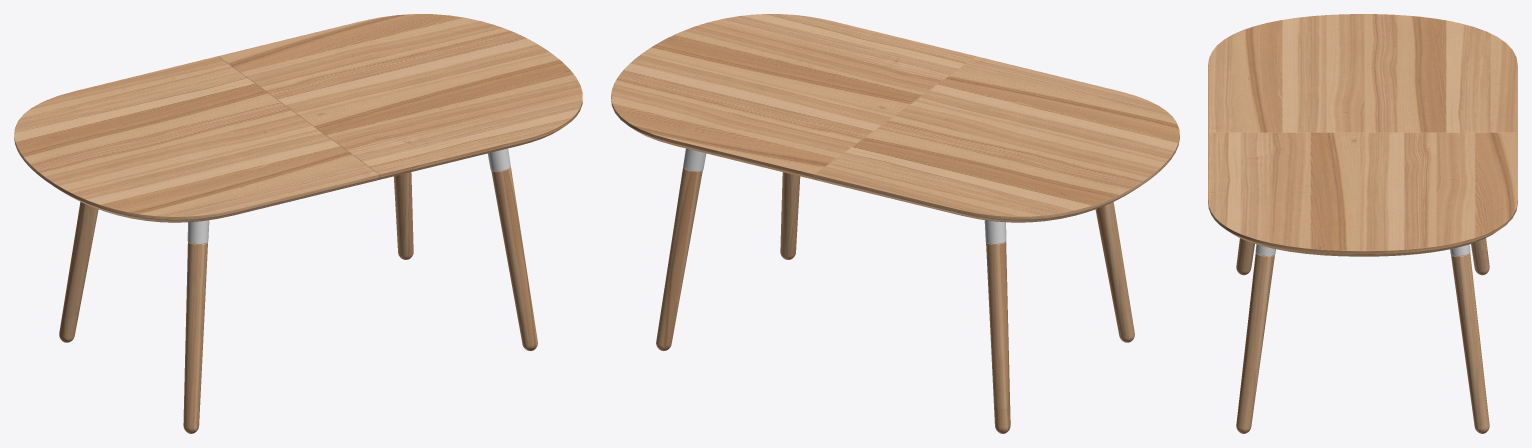
The model's file is pbrTable.glb.
The picture shows the model from 3 angles, left to right: view 1: azimuth 30°, elevation 25°; view 2: azimuth 150°, elevation 25°; view 3: azimuth 270°, elevation 25°; orthographic projection. The views are drawn at different scales.
Visible parts, largest first — view 1: Edelweiss_Extending_Dining_Table_Ash_and_White; view 2: Edelweiss_Extending_Dining_Table_Ash_and_White; view 3: Edelweiss_Extending_Dining_Table_Ash_and_White.
Boxes of the visible parts, x1=… form: Edelweiss_Extending_Dining_Table_Ash_and_White: x1=14, y1=14, x2=582, y2=433; Edelweiss_Extending_Dining_Table_Ash_and_White: x1=611, y1=14, x2=1179, y2=433; Edelweiss_Extending_Dining_Table_Ash_and_White: x1=1208, y1=14, x2=1517, y2=433.
Size of the model in its own units: 17.02 by 7.41 by 9.4.
2 materials, 1 textured.
